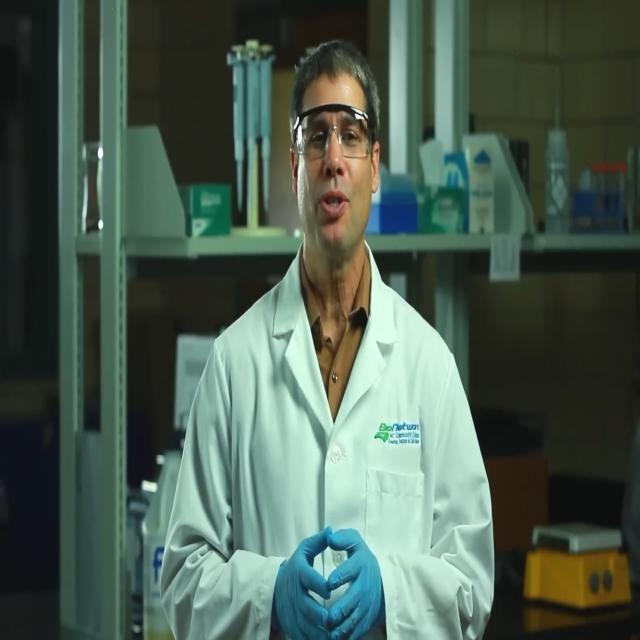googles: (290, 102, 380, 164)
labcoat: (158, 231, 498, 640)
